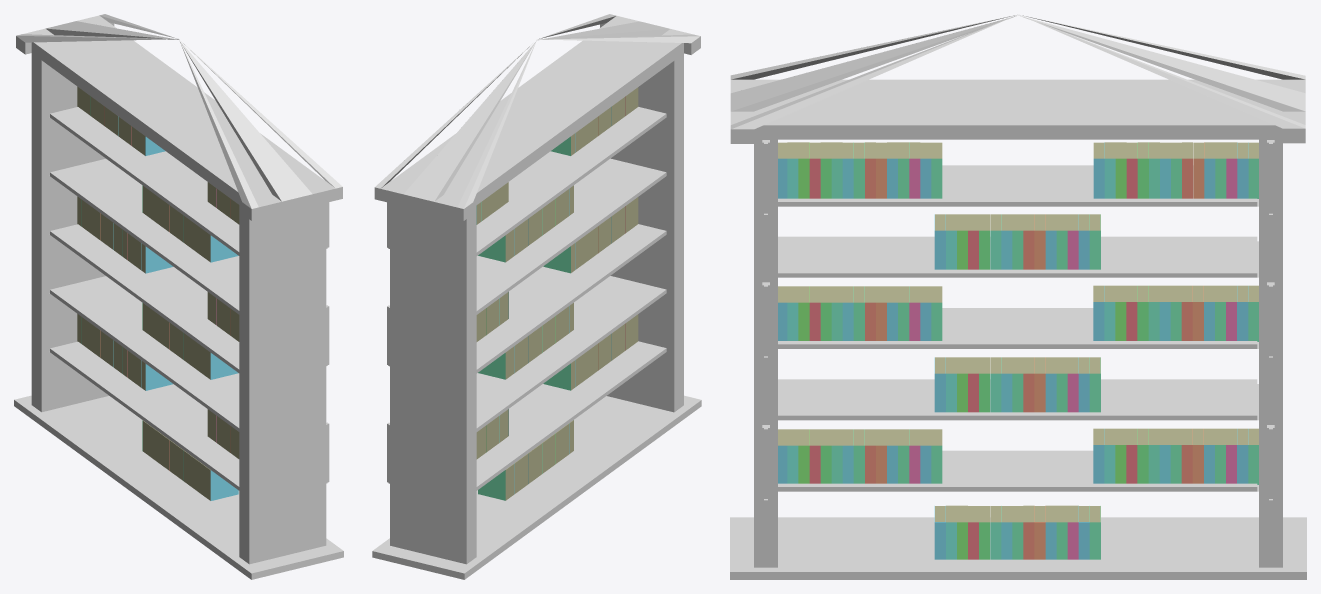
File: 1shelves .fbx
3 renders of one model, left to right at view 1: azimuth 30°, elevation 25°; view 2: azimuth 150°, elevation 25°; view 3: azimuth 270°, elevation 25°, orthographic. The views are drawn at different scales.
Parts seen in each view (by area): view 1: Cube, Book0.006; view 2: Cube, Book0.006; view 3: Cube, Book0.006.
Part boxes in pixels (x1,y1,x2,y2): Cube: (14,14,343,579); Book0.006: (77,86,239,500); Cube: (372,14,701,579); Book0.006: (476,87,638,500); Cube: (730,14,1306,579); Book0.006: (778,142,1258,559).
Size of the model in its own units: 193 by 886 by 861.
